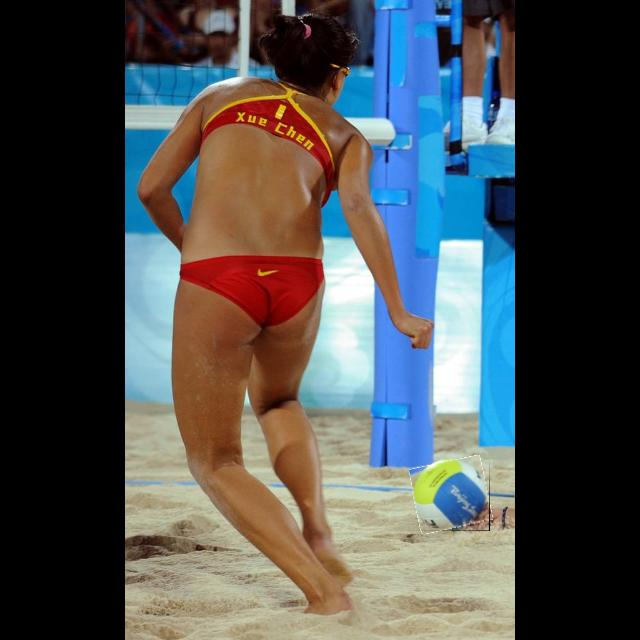Football: (412, 459, 490, 531)
